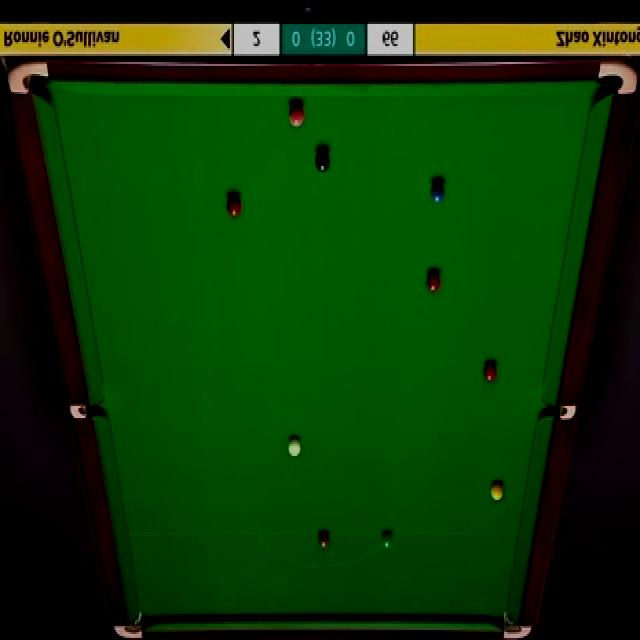pocket: (597, 56, 640, 98), (7, 60, 49, 95), (116, 604, 150, 638), (500, 608, 531, 640), (539, 403, 577, 422), (67, 405, 105, 420)
